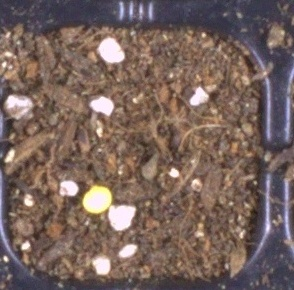chilli seed: (82, 185, 113, 214)
